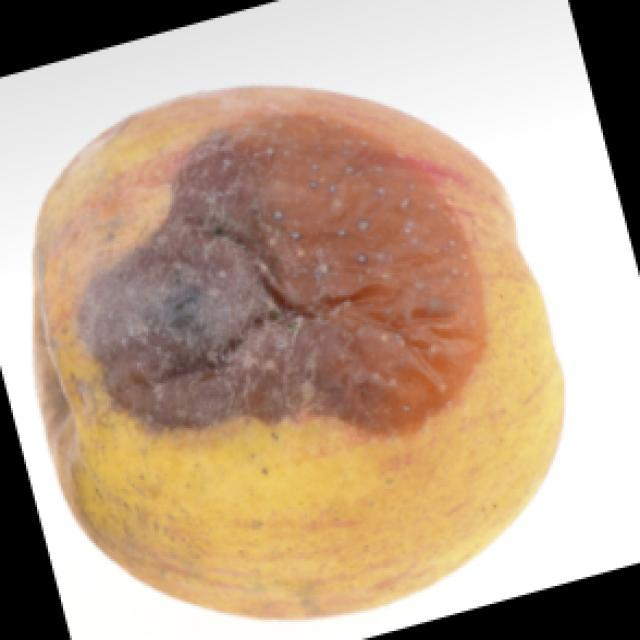Rotten: (40, 90, 553, 623)
